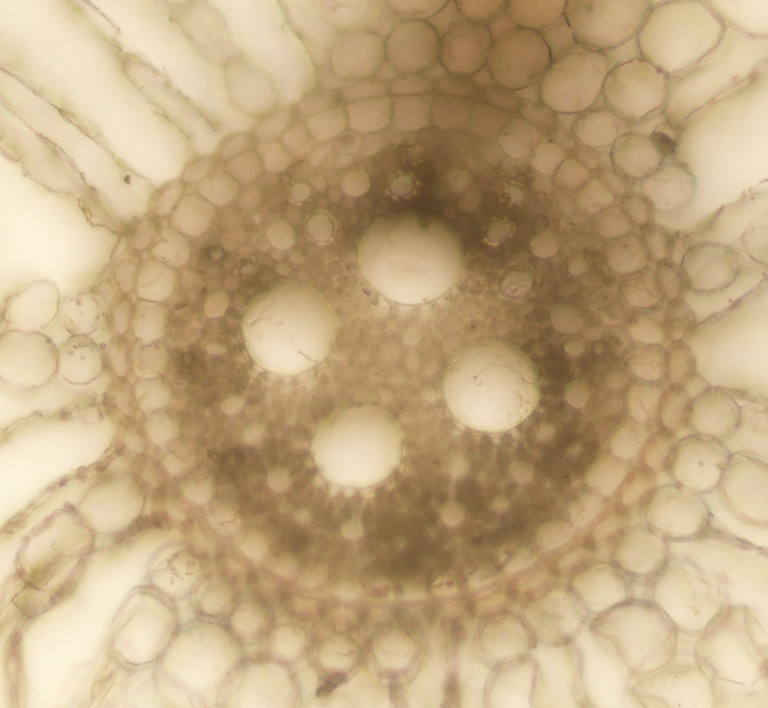lm: (356, 209, 467, 306), (440, 335, 541, 432), (240, 280, 340, 375), (311, 402, 406, 490)
